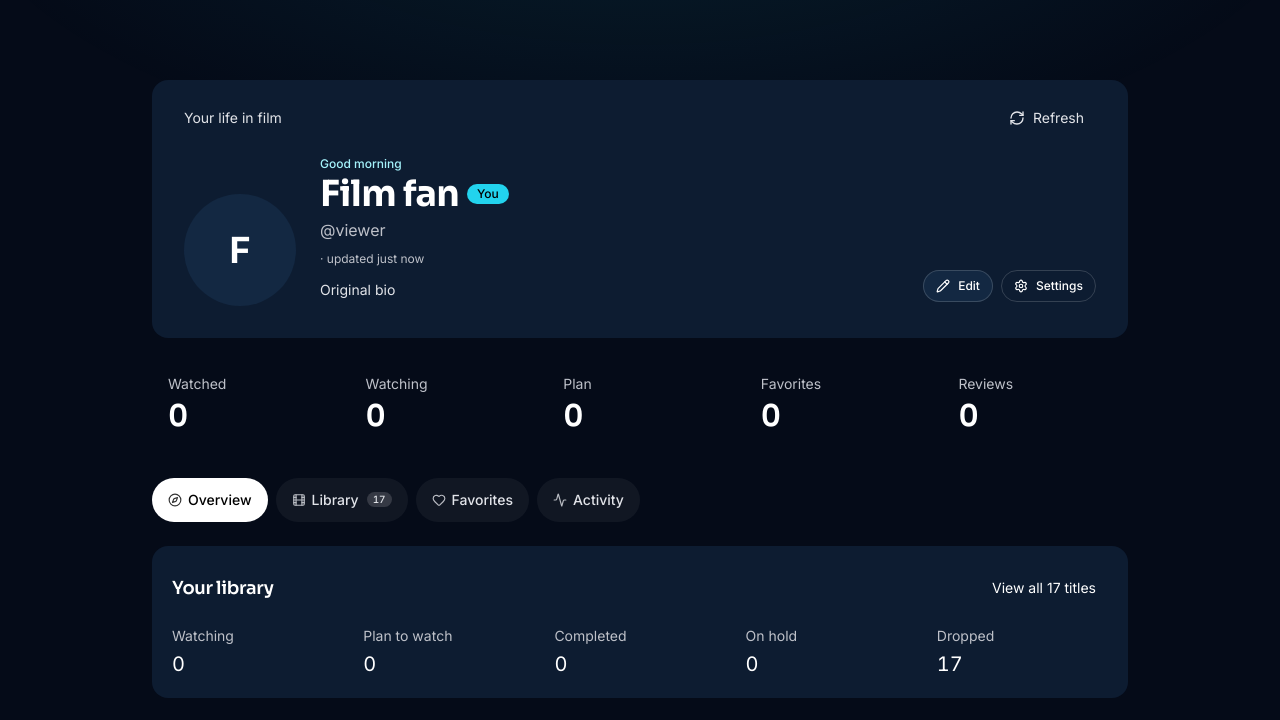
it: dropped titles and library titles beyond the first page remain accessible
This screenshot has width=1280, height=720.
Expected: the heading "Film fan" is shown, [320,174,459,214]
What coordinates should you click on to do the following:
click the button "Library 17"
I would click on:
 (342, 500)
Its box is [276,478,408,522].
(page scrolled)
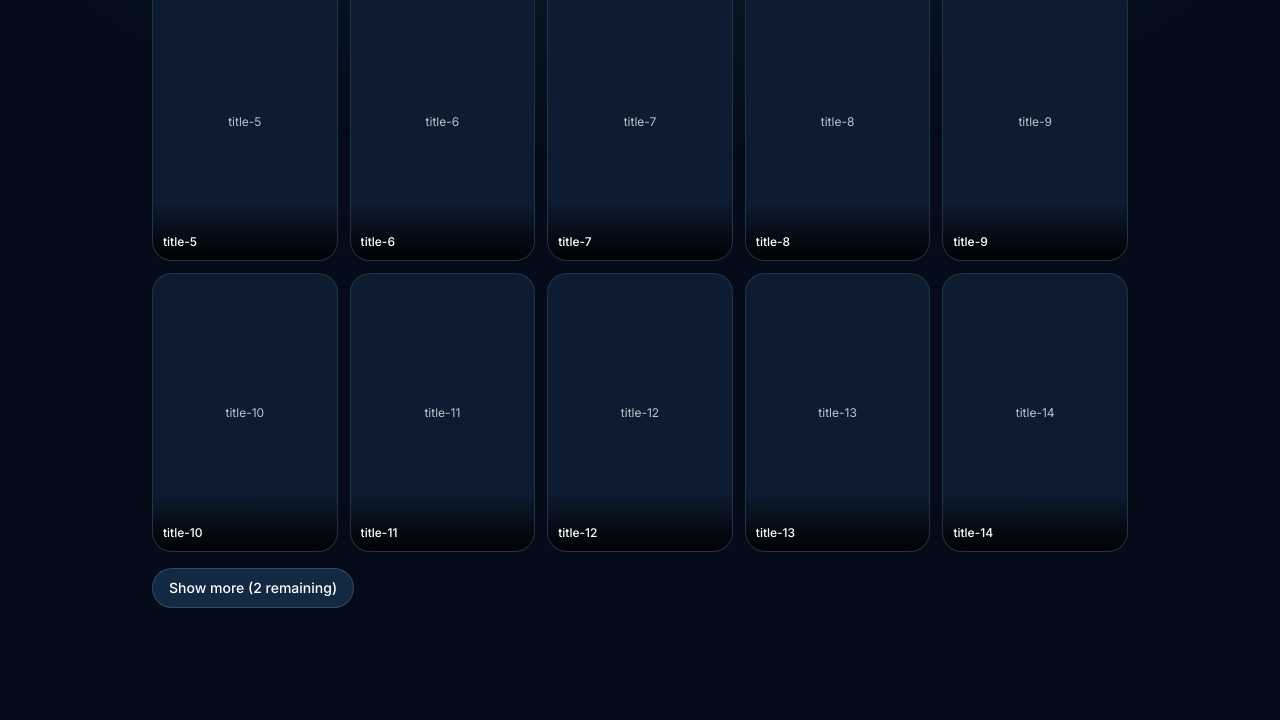
Expected: the link "title-16" is not shown
What coordinates should you click on to do the following:
click the button "Show more (2 remaining)"
I would click on:
 (253, 588)
Its box is [152,568,354,608].
(page scrolled)
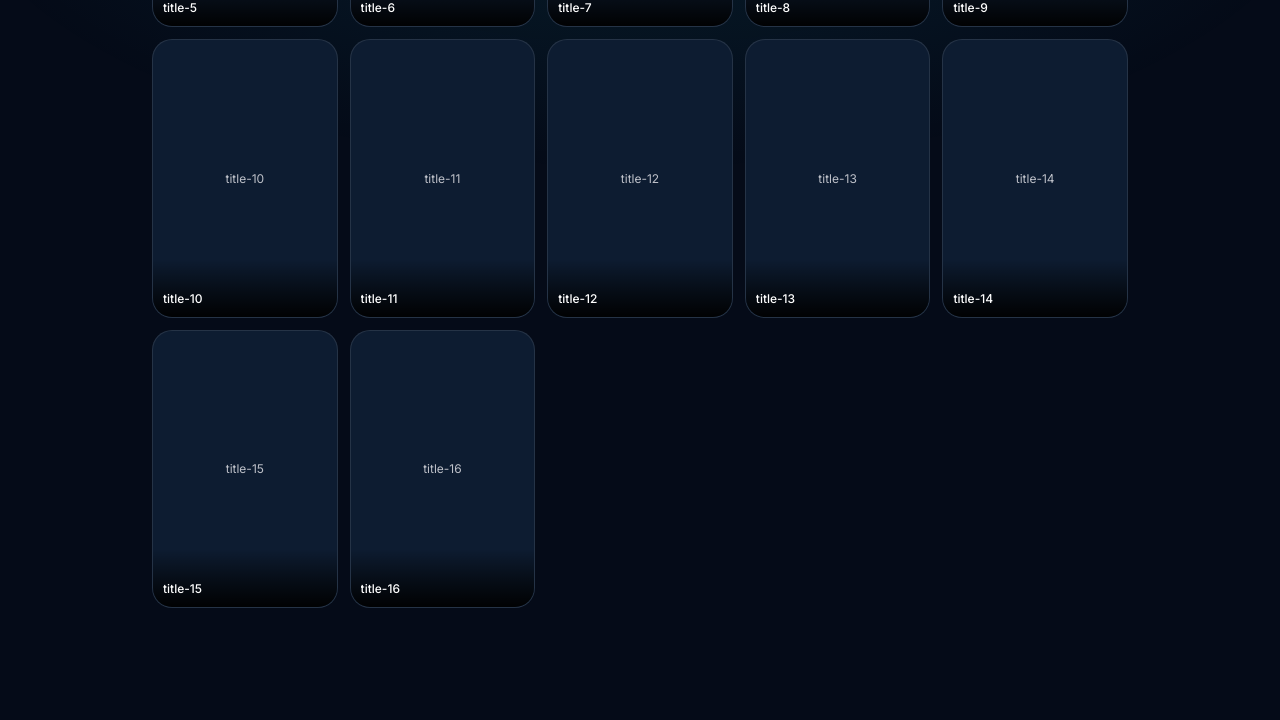
Expected: the link "title-16 title-16" is shown, [350,330,535,608]
